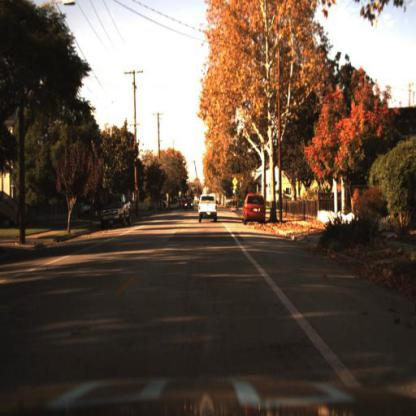car: (103, 192, 133, 232), (239, 192, 268, 224), (199, 193, 218, 224), (183, 200, 195, 213)
